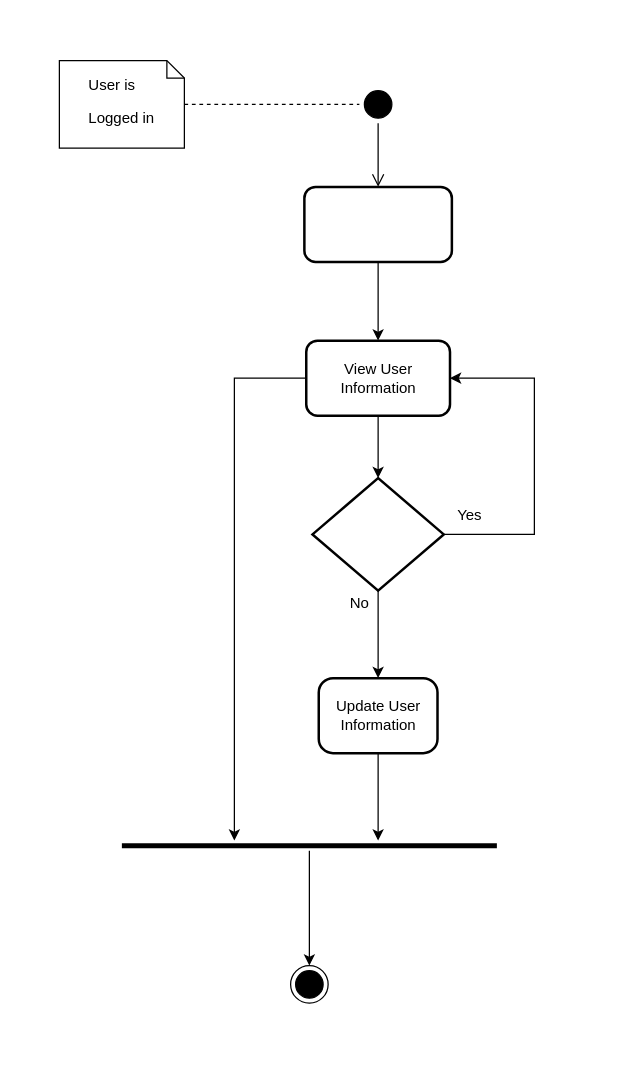
Image size: 618x1068. Some labels were removed from this diagram. The centre of each missing label's shape, as x and y in pixels:
Is information correct?: point (377, 533)
Manage Profile: point (377, 223)
